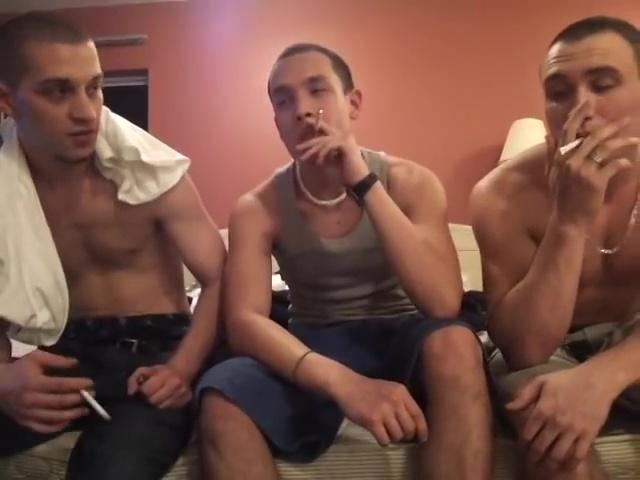cigarette: (81, 387, 111, 423), (557, 133, 588, 155), (311, 106, 328, 137)
